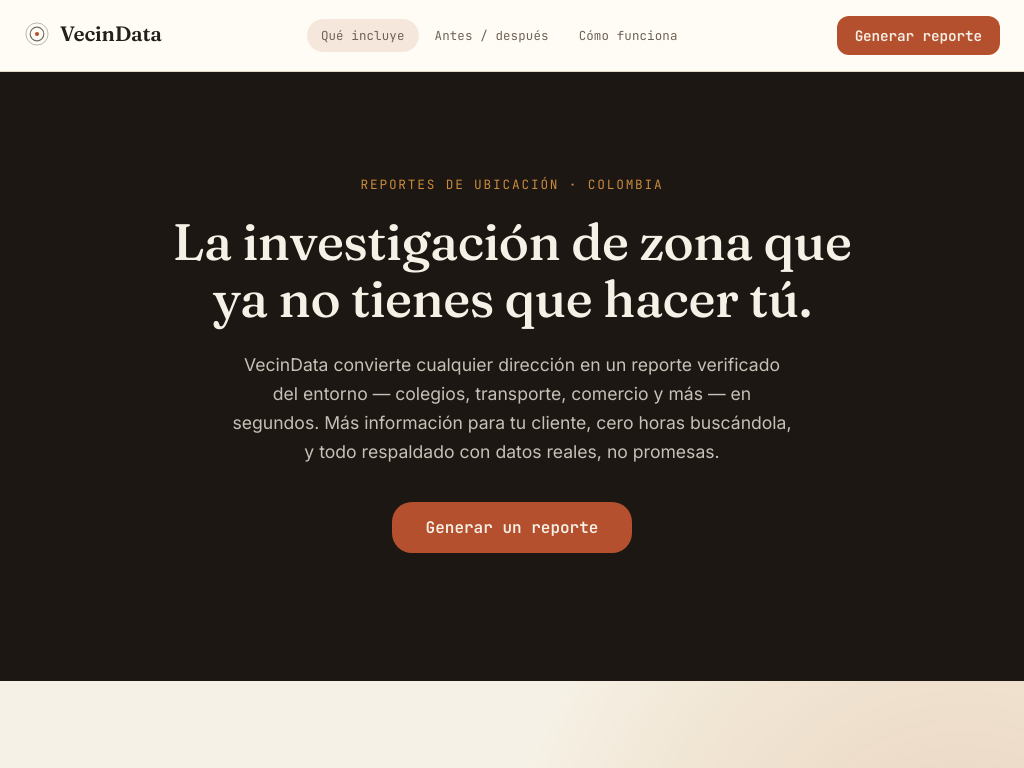
Test: App › shows the access gate instead of the operator page when no key is stored
Click the link "Generar reporte". click: {"x": 918, "y": 36}
box: [837,16,1000,55]
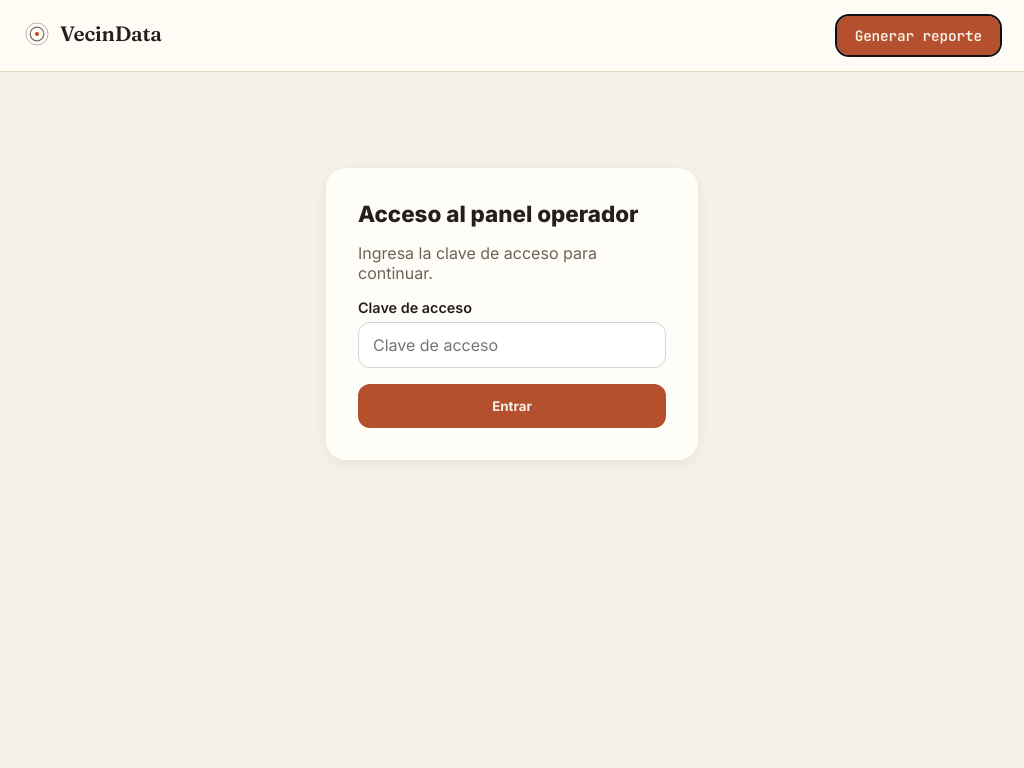
Expected: the heading "Acceso al panel operador" is shown, [358,200,666,227]
